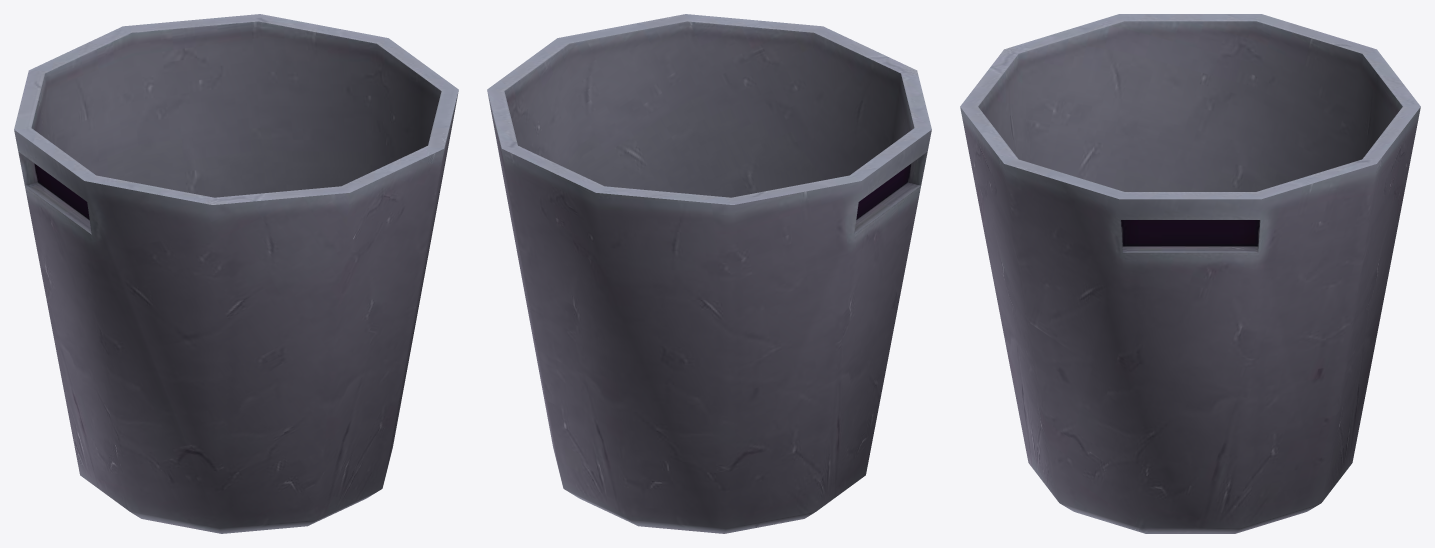
File: Trash Bin.obj
The picture shows the model from 3 angles, left to right: view 1: azimuth 30°, elevation 25°; view 2: azimuth 150°, elevation 25°; view 3: azimuth 270°, elevation 25°; orthographic projection.
Visible parts, largest first — view 1: Trash_Bin; view 2: Trash_Bin; view 3: Trash_Bin.
Part boxes in pixels (x1,y1,x2,y2): Trash_Bin: (14, 14, 458, 533); Trash_Bin: (487, 14, 931, 533); Trash_Bin: (960, 14, 1420, 533).
Size of the model in its own units: 2.47 by 2.3 by 2.6.
